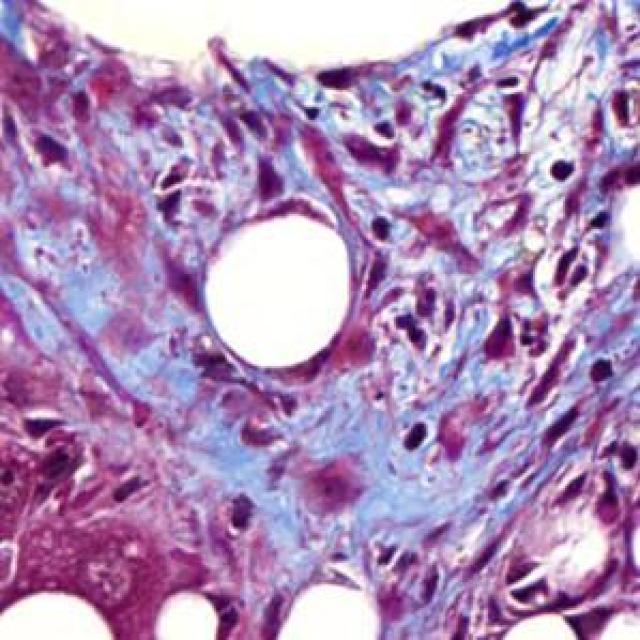steatosis: (199, 220, 364, 370)
